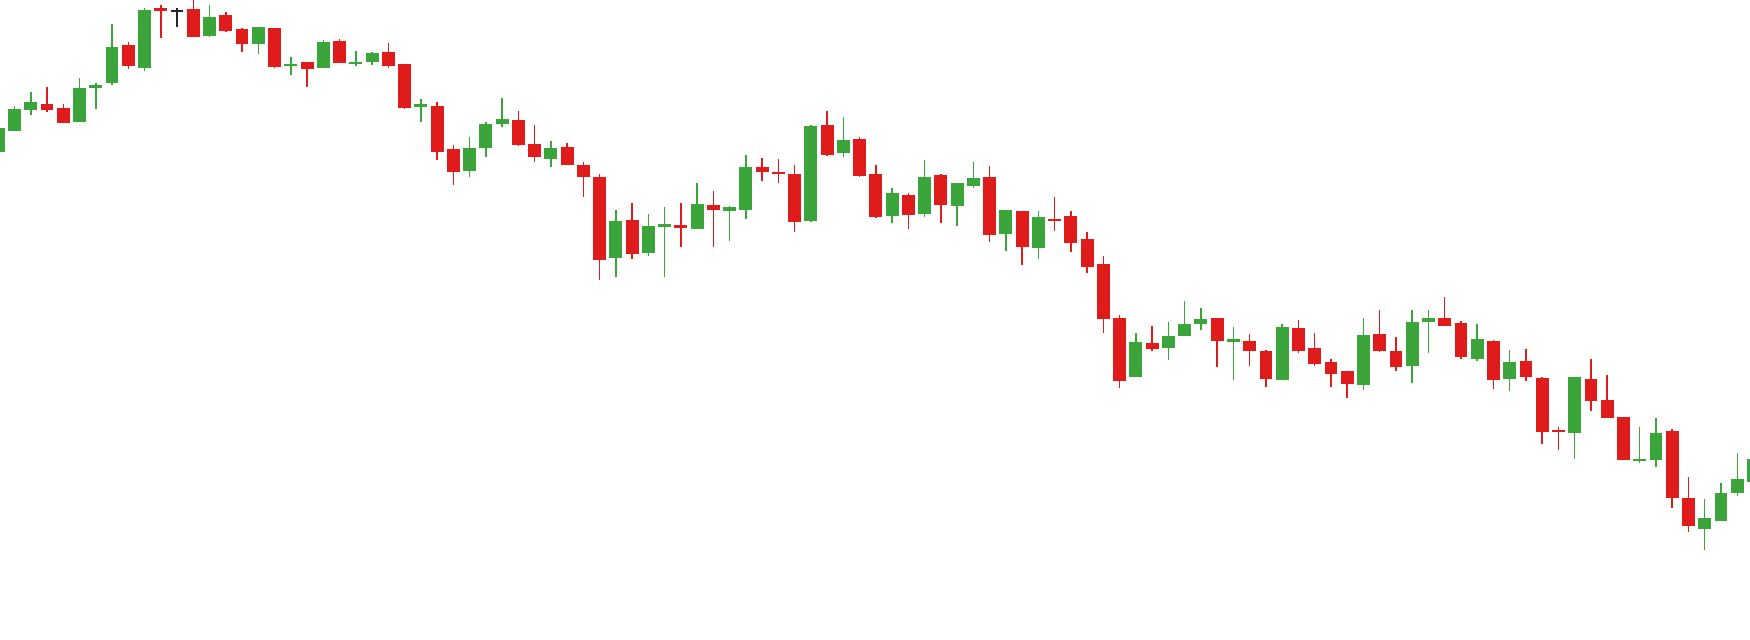sell: (735, 114, 868, 195)
